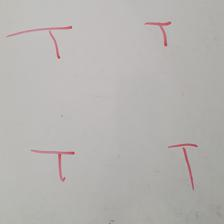terminator: (7, 25, 73, 61), (168, 143, 200, 191), (31, 148, 76, 182), (146, 21, 173, 49)
